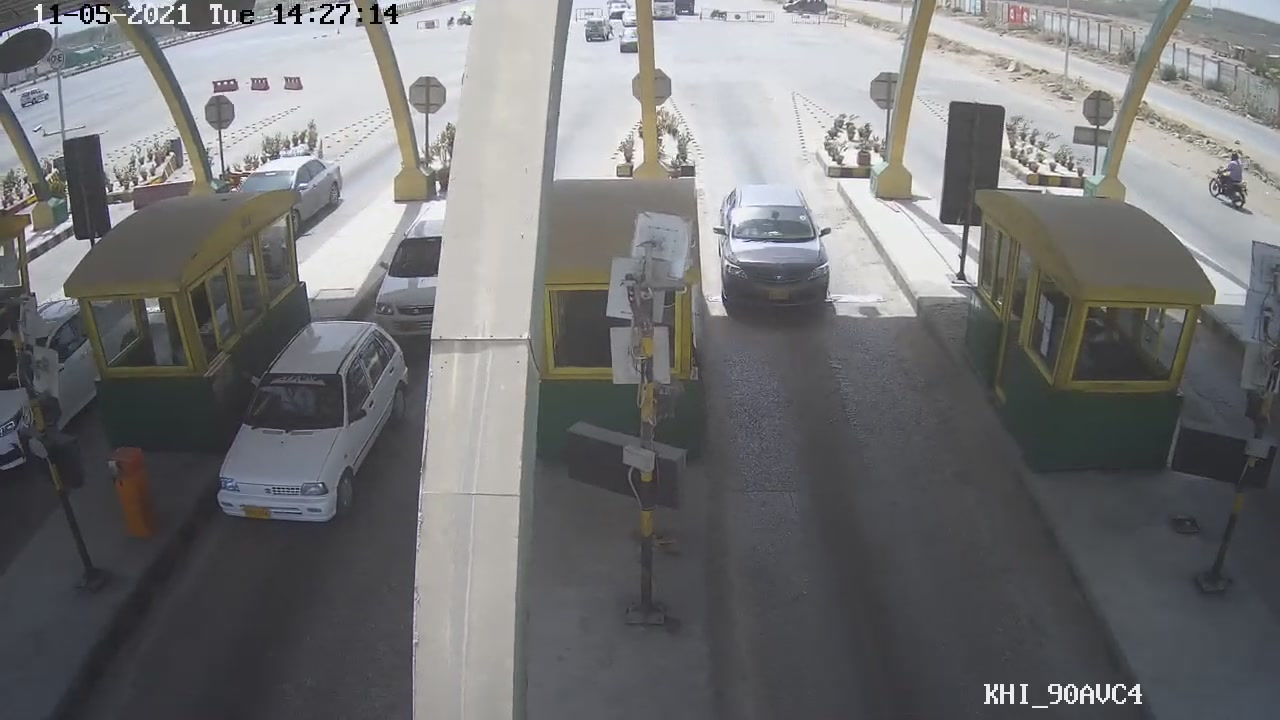F1: (709, 180, 836, 315)
